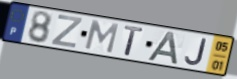8: (26, 10, 53, 45)
A: (146, 30, 180, 67)
J: (184, 37, 209, 67)
M: (82, 19, 121, 55)
T: (123, 25, 146, 58)
Z: (50, 13, 85, 50)
